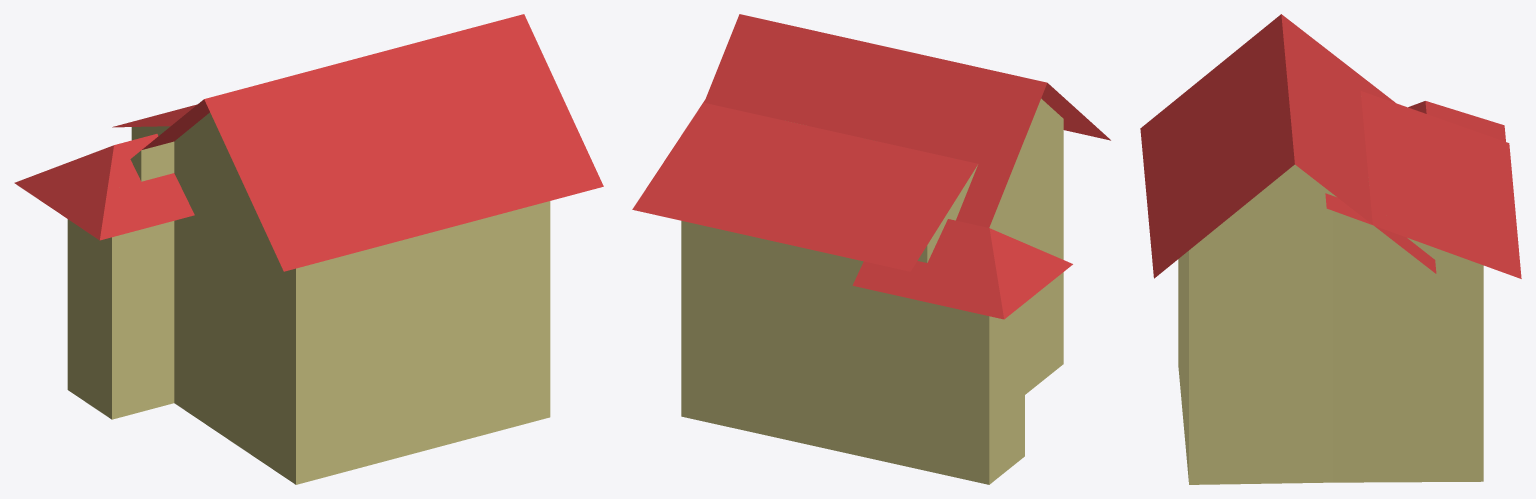
3 renders of one model, left to right at view 1: azimuth 30°, elevation 25°; view 2: azimuth 150°, elevation 25°; view 3: azimuth 270°, elevation 25°, orthographic. The views are drawn at different scales.
Visible parts, largest first — view 1: group_5, group_3, group_9, group_7, group_4, group_8, group_11; view 2: group_13, group_11, group_3, group_9, group_7, group_5, group_12, group_8, group_4; view 3: group_5, group_3, group_11, group_13, group_4, group_12, group_7.
Boxes of the visible parts, x1,y1,x2,y2 form: group_5: [130, 112, 550, 484]; group_3: [142, 14, 603, 271]; group_9: [67, 219, 141, 419]; group_7: [14, 134, 194, 240]; group_4: [181, 15, 600, 270]; group_8: [16, 161, 110, 240]; group_11: [112, 104, 197, 127]; group_13: [681, 165, 977, 457]; group_11: [632, 100, 977, 271]; group_3: [704, 14, 1110, 227]; group_9: [869, 289, 1024, 484]; group_7: [852, 219, 1072, 319]; group_5: [989, 98, 1063, 394]; group_12: [641, 105, 926, 270]; group_8: [853, 246, 1071, 318]; group_4: [705, 16, 1107, 197]; group_5: [1178, 164, 1435, 484]; group_3: [1140, 14, 1436, 278]; group_11: [1325, 91, 1521, 278]; group_13: [1407, 238, 1483, 481]; group_4: [1140, 15, 1425, 277]; group_12: [1326, 134, 1517, 273]; group_7: [1408, 101, 1505, 141].
Bounding box in the file's own units: 18.02 × 15.64 × 15.14.
